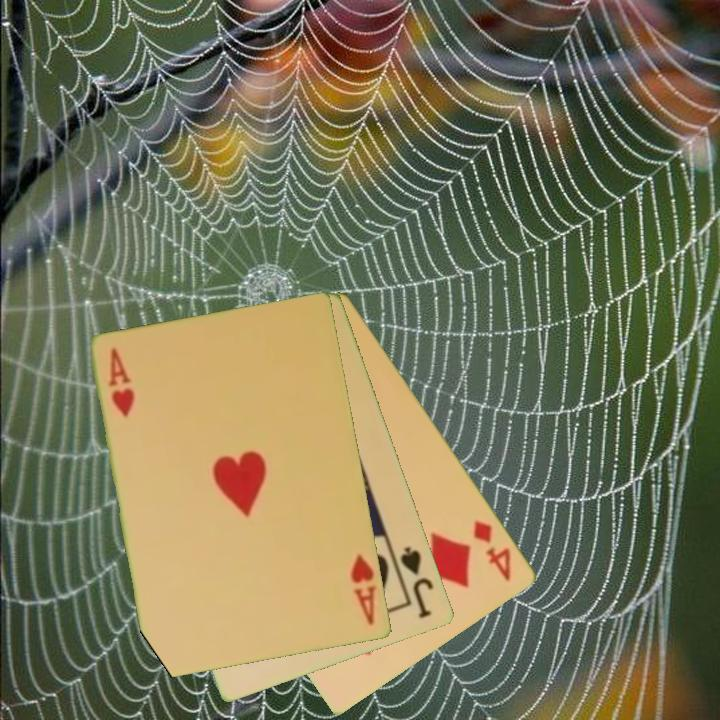4d: (470, 516, 515, 585)
Ah: (347, 551, 380, 629), (105, 344, 137, 421)
Js: (397, 543, 437, 622)
